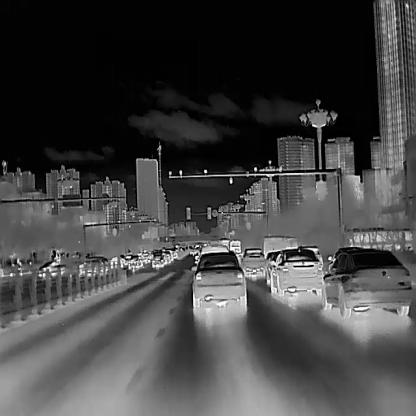bus: (346, 227, 411, 250), (228, 239, 240, 253)
car: (322, 248, 412, 316), (190, 253, 246, 306), (270, 249, 322, 296), (326, 246, 363, 270), (240, 247, 264, 275), (77, 256, 110, 276), (298, 245, 322, 268), (197, 244, 228, 261), (266, 249, 281, 282), (38, 260, 64, 275), (127, 254, 142, 268), (151, 251, 163, 267)
truck: (262, 235, 296, 258)
